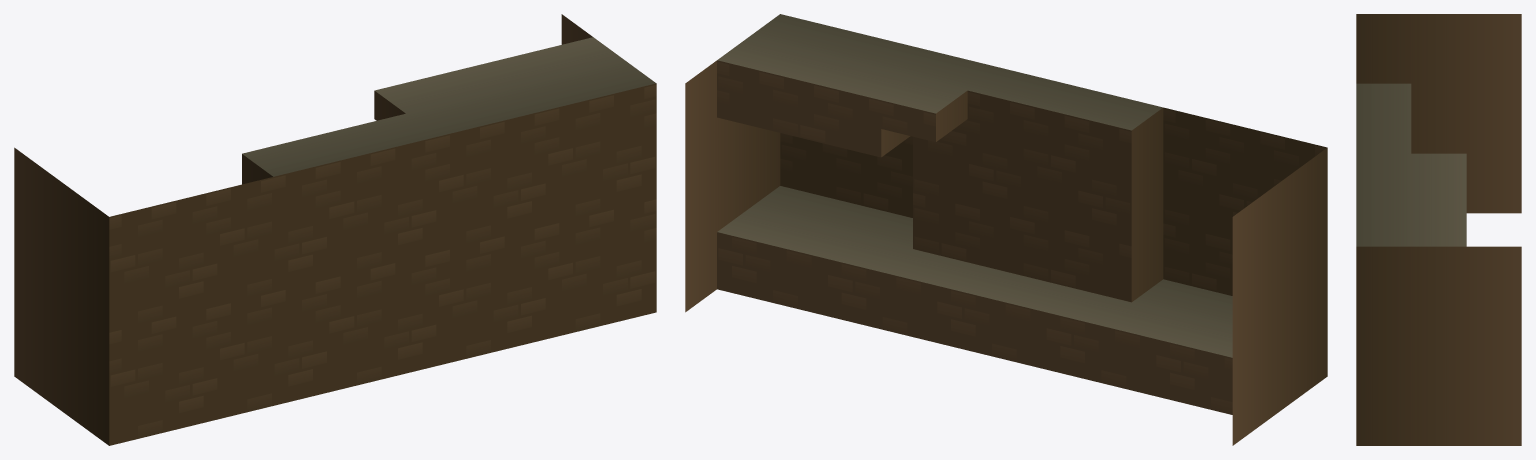
The model's file is SM_Room1_1_8x20.fbx.
The picture shows the model from 3 angles, left to right: view 1: azimuth 30°, elevation 25°; view 2: azimuth 150°, elevation 25°; view 3: azimuth 270°, elevation 25°; orthographic projection. The views are drawn at different scales.
Parts seen in each view (by area): view 1: SM_Room1_1_8x20; view 2: SM_Room1_1_8x20; view 3: SM_Room1_1_8x20.
Part boxes in pixels (<box>): SM_Room1_1_8x20: <box>14,14,656,445</box>; SM_Room1_1_8x20: <box>685,14,1327,445</box>; SM_Room1_1_8x20: <box>1356,14,1521,445</box>.
Size of the model in its own units: 2000 by 600 by 800.
